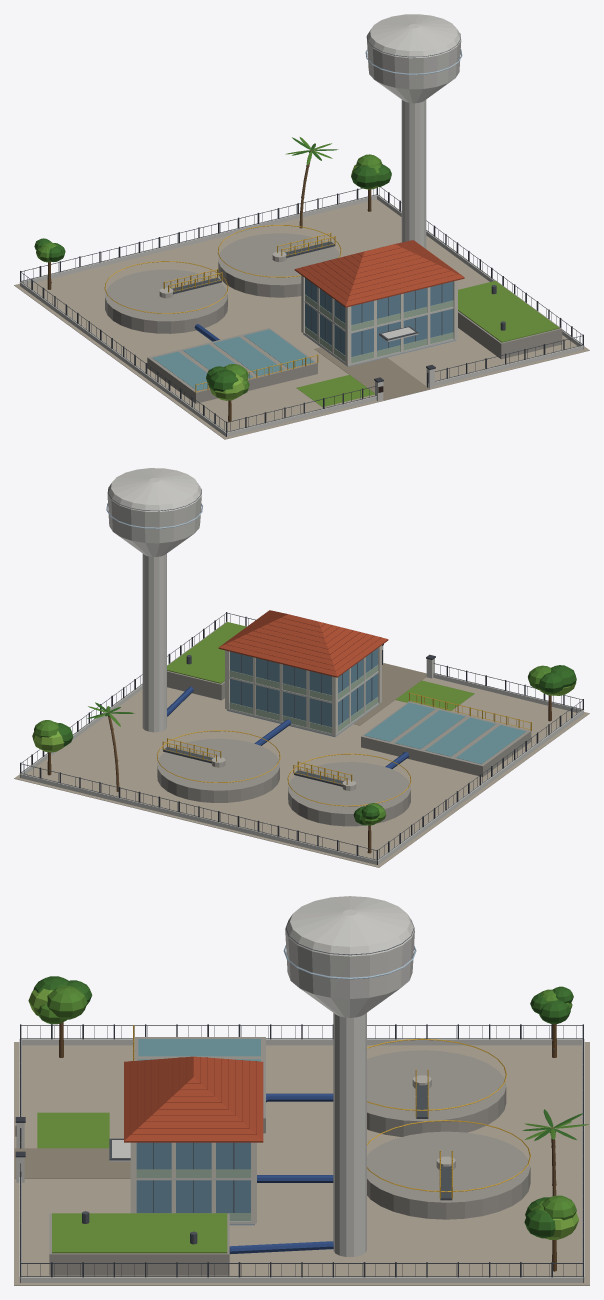
The model's file is water_works.glb.
The picture shows the model from 3 angles, top to bottom: view 1: azimuth 30°, elevation 25°; view 2: azimuth 150°, elevation 25°; view 3: azimuth 270°, elevation 25°; orthographic projection. The views are drawn at different scales.
Parts seen in each view (by area): view 1: body; view 2: body; view 3: body.
Boxes of the visible parts, x1,y1,x2,y2 form: body: (14,14,589,439); body: (14,468,589,867); body: (14,896,589,1285).
Size of the model in its own units: 47.9 by 31.04 by 47.9.
